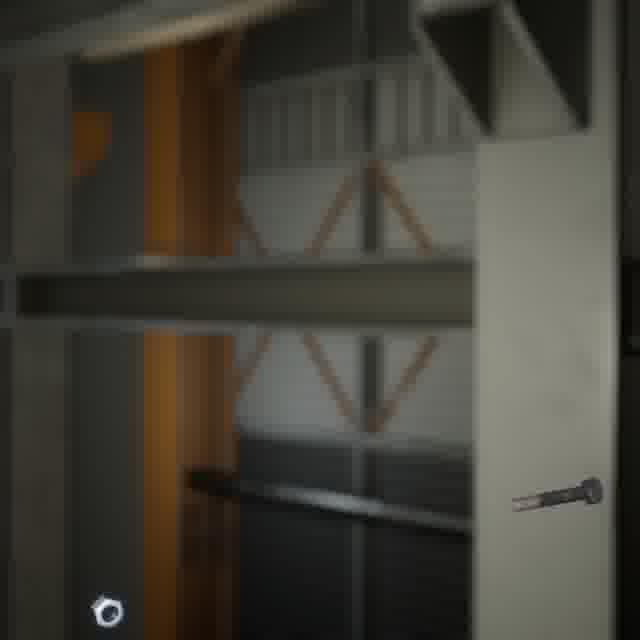bolt: (506, 472, 607, 516)
nut: (86, 590, 129, 632)
